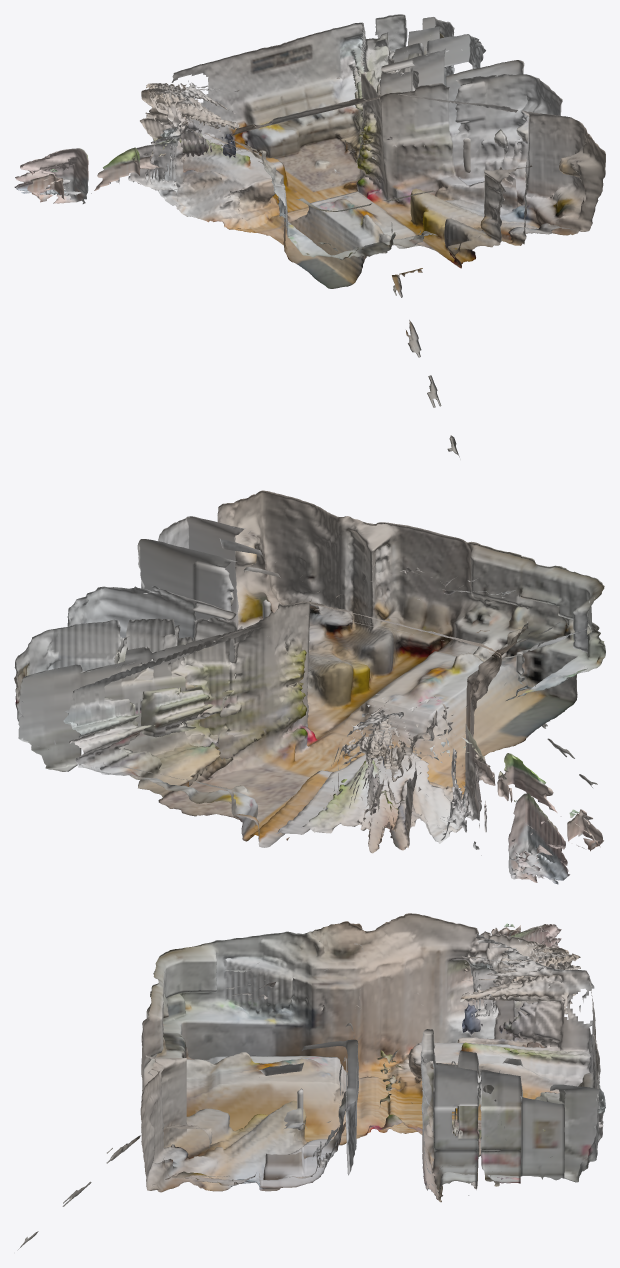
Rendered from OldKitchen-3Dmodel.glb.
3 renders of one model, top to bottom at view 1: azimuth 30°, elevation 25°; view 2: azimuth 150°, elevation 25°; view 3: azimuth 270°, elevation 25°, orthographic. The views are drawn at different scales.
Parts seen in each view (by area): view 1: world; view 2: world; view 3: world.
Part boxes in pixels (<box>): world: <box>14,14,605,459</box>; world: <box>14,490,605,884</box>; world: <box>17,913,605,1250</box>.
Bounding box in the file's own units: 11.25 × 6.21 × 11.47.
